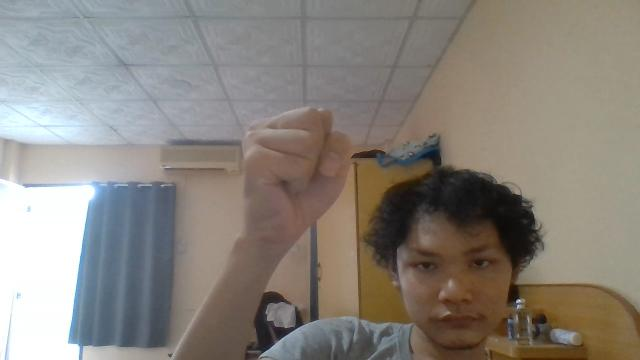forward: (240, 105, 352, 244)
